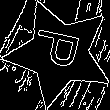P_E: (30, 30, 89, 77)
